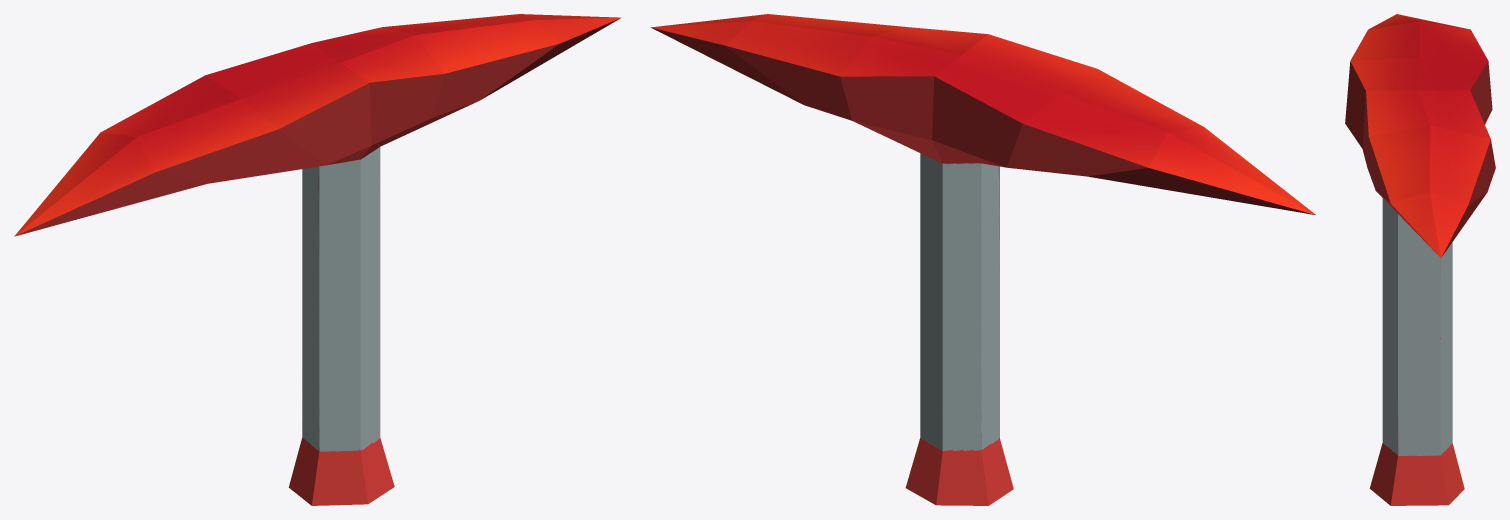
Rendered from picareta.fbx.
3 views of the same model, side by side, from view 1: azimuth 30°, elevation 25°; view 2: azimuth 150°, elevation 25°; view 3: azimuth 270°, elevation 25° (orthographic). The views are drawn at different scales.
Parts seen in each view (by area): view 1: Cone.004; view 2: Cone.004; view 3: Cone.004.
Part boxes in pixels (bbox=[...]): Cone.004: bbox=[14, 14, 621, 505]; Cone.004: bbox=[650, 14, 1315, 505]; Cone.004: bbox=[1345, 14, 1495, 505].
Bounding box in the file's own units: 492 × 318 × 108.
1 material, 1 textured.
